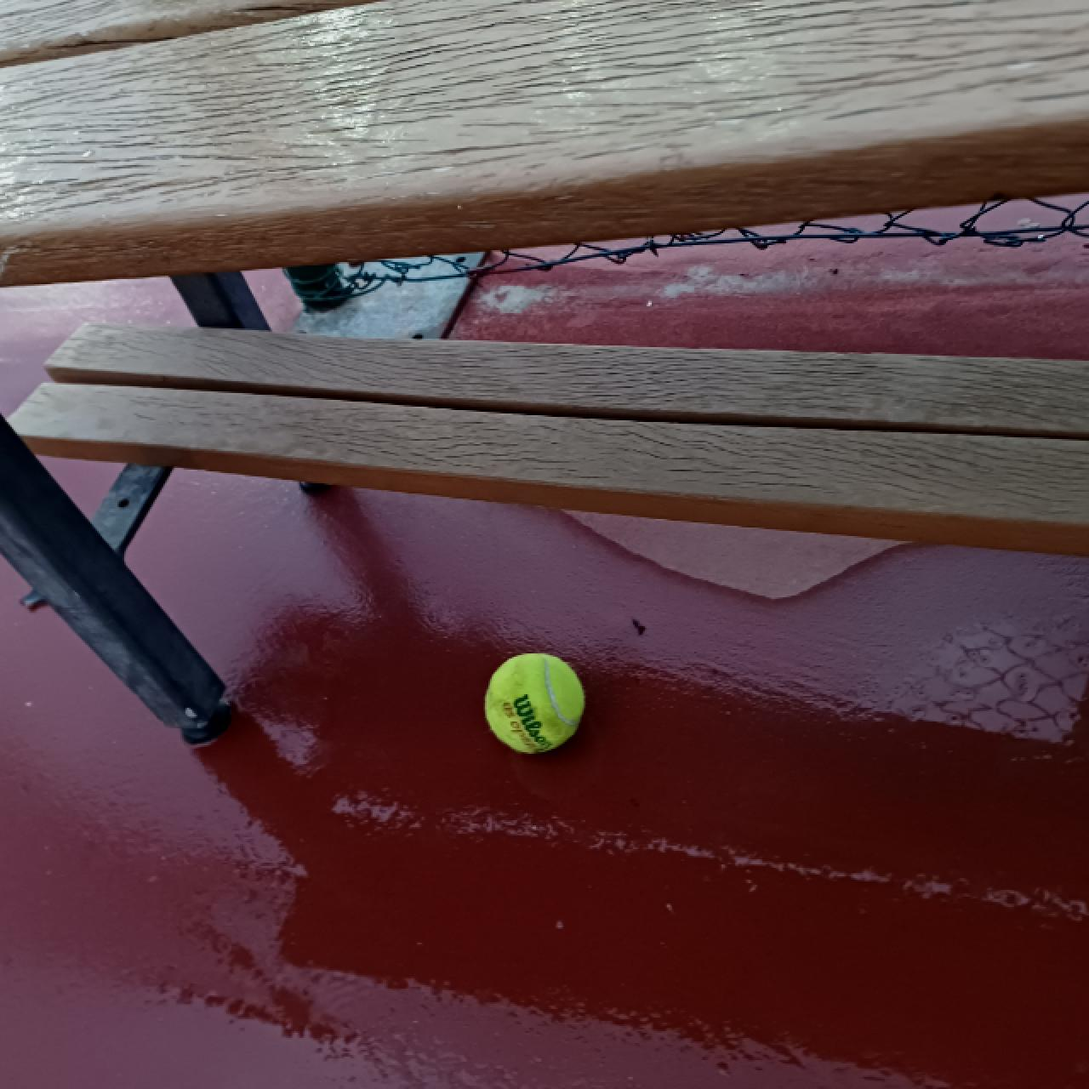tennis-ball: (482, 651, 586, 758)
